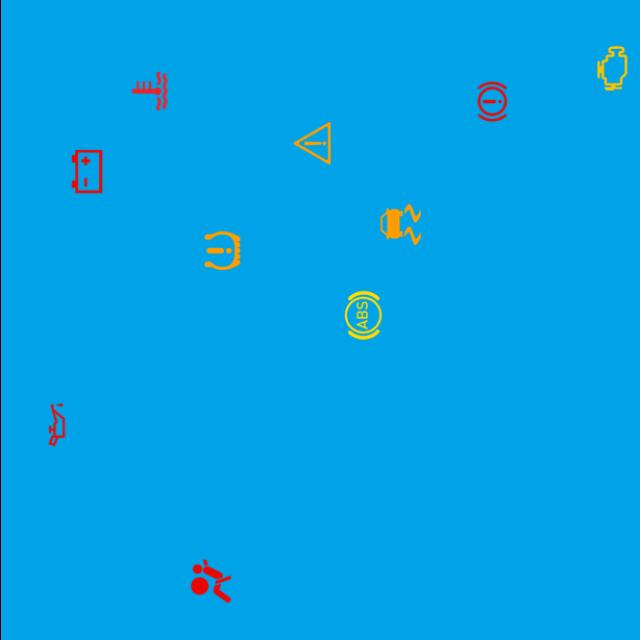Anti Lock Braking System: (336, 289, 388, 342)
Braking System Issue: (465, 75, 518, 128)
Charging System Issue: (59, 145, 112, 198)
Check Engine: (585, 42, 638, 95)
Electronic Stability Problem -ESP-: (373, 198, 426, 251)
Engine Overheating Warning Light: (122, 64, 175, 118)
Low Engine Oil Warning Light: (29, 398, 82, 452)
Low Tire Pressure Warning Light: (195, 224, 248, 277)
Master warning light: (284, 117, 338, 170)
SRS-Airbag: (184, 554, 236, 608)
